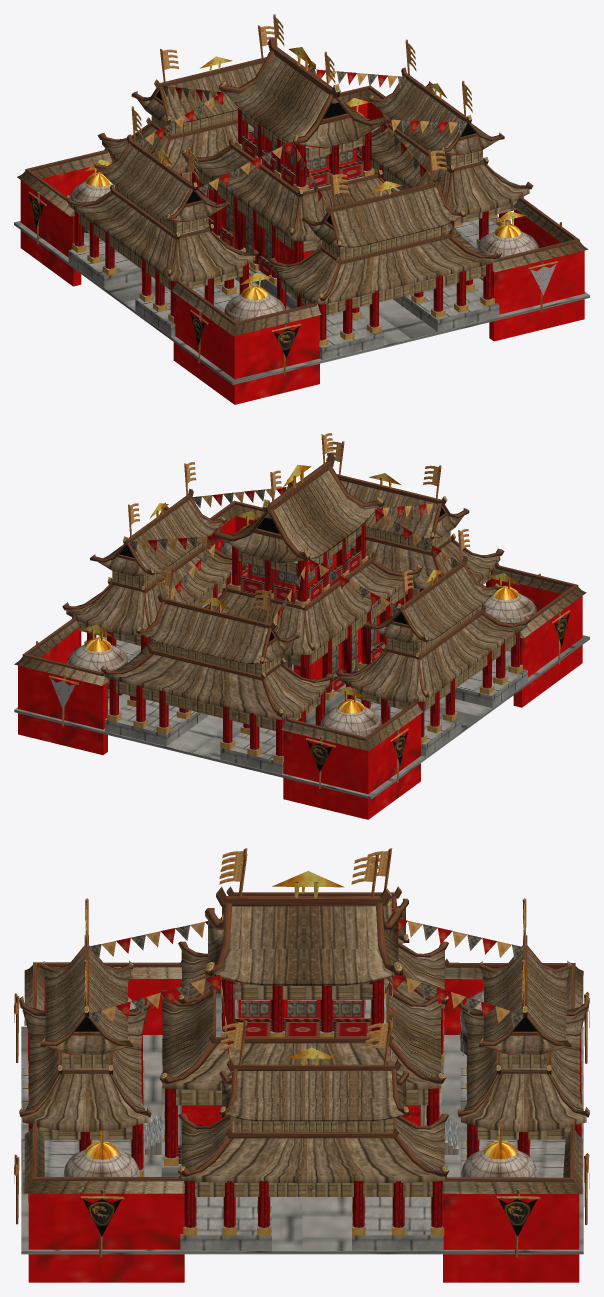
File: wonder.dae
The picture shows the model from 3 angles, top to bottom: view 1: azimuth 30°, elevation 25°; view 2: azimuth 150°, elevation 25°; view 3: azimuth 270°, elevation 25°; orthographic projection. The views are drawn at different scales.
Visible parts, largest first — view 1: wonder; view 2: wonder; view 3: wonder.
Boxes of the visible parts, x1=… form: wonder: x1=14, y1=14, x2=589, y2=404; wonder: x1=14, y1=433, x2=589, y2=819; wonder: x1=14, y1=848, x2=589, y2=1282.
Bounding box in the file's own units: 42.68 × 45.22 × 27.63.
